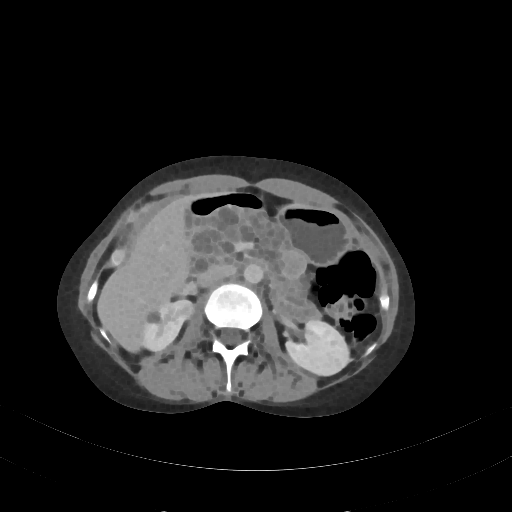Lesion: (147, 311, 163, 325)
